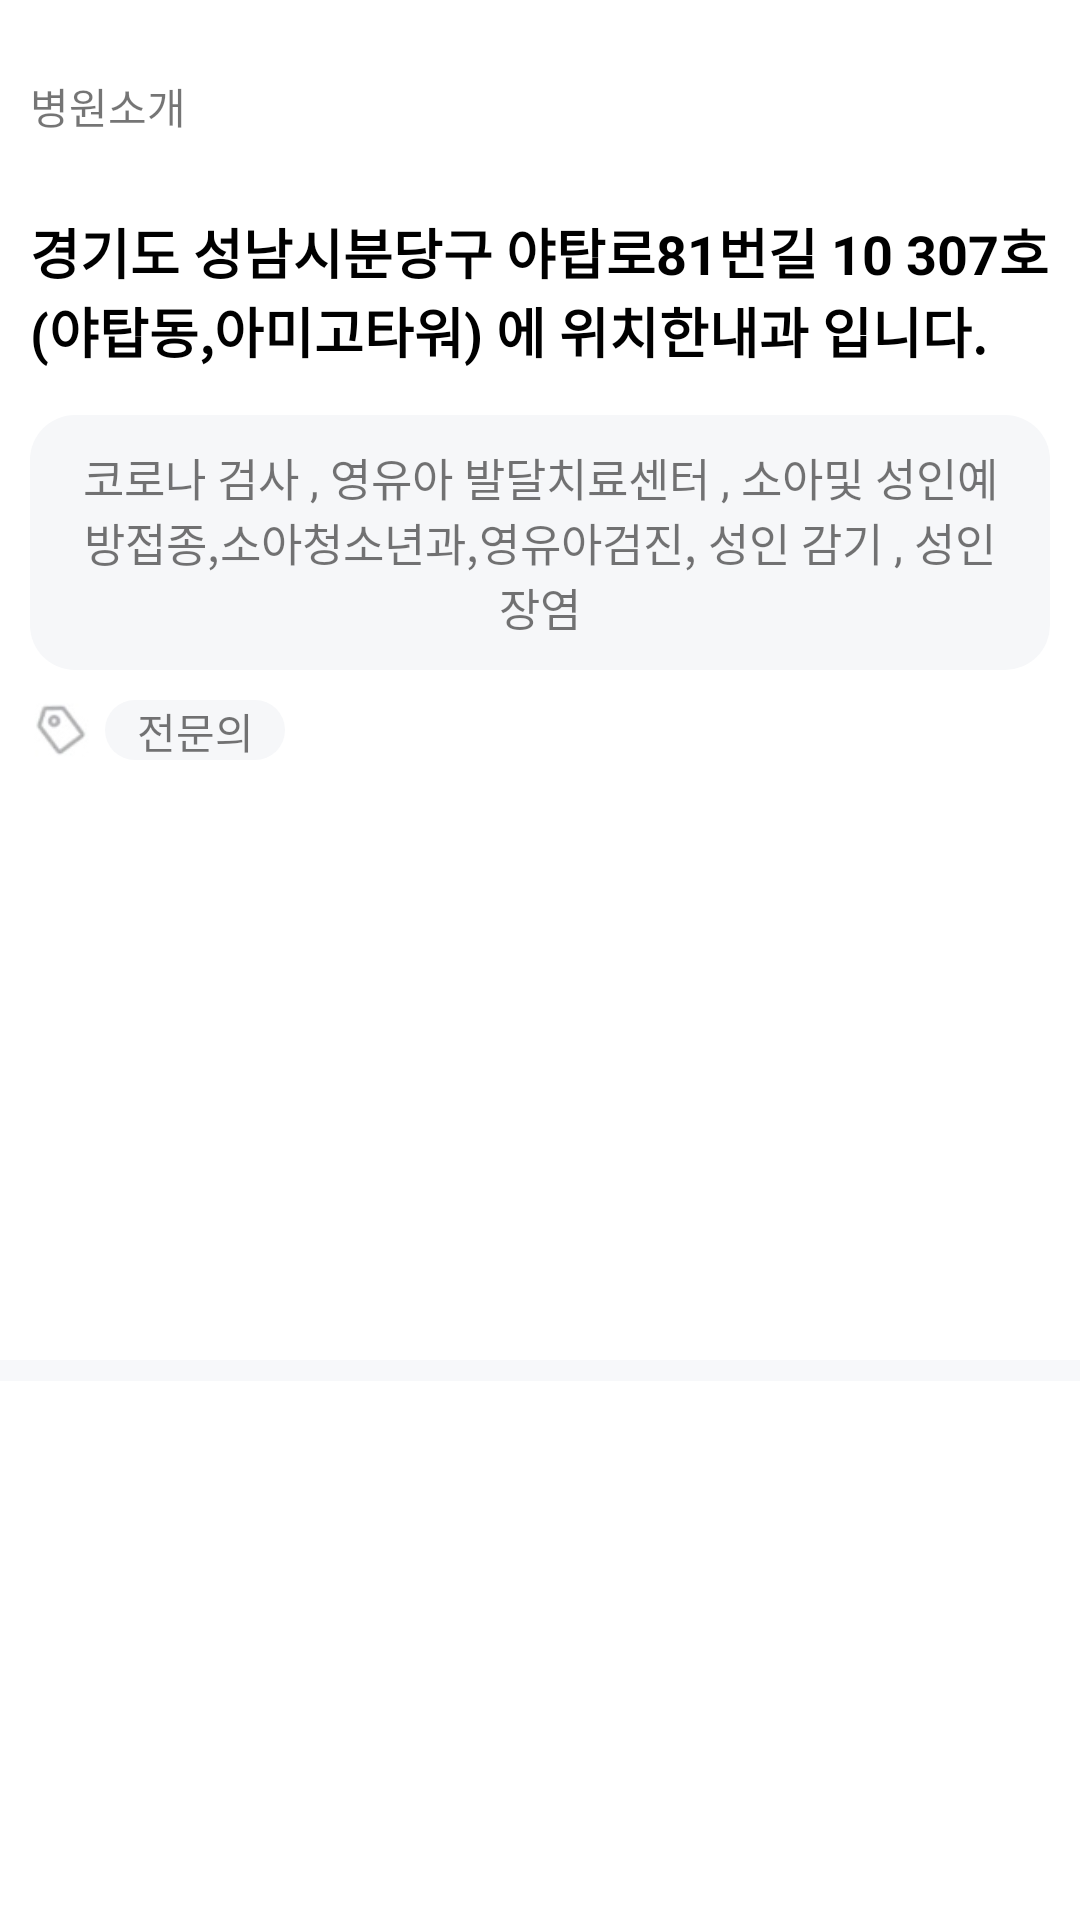

Screen size 1080px x 1920px. Icon name, then its box in pixels as (x1, y1, x2, y2):
hospital info doctor type: (37, 706, 85, 754)
